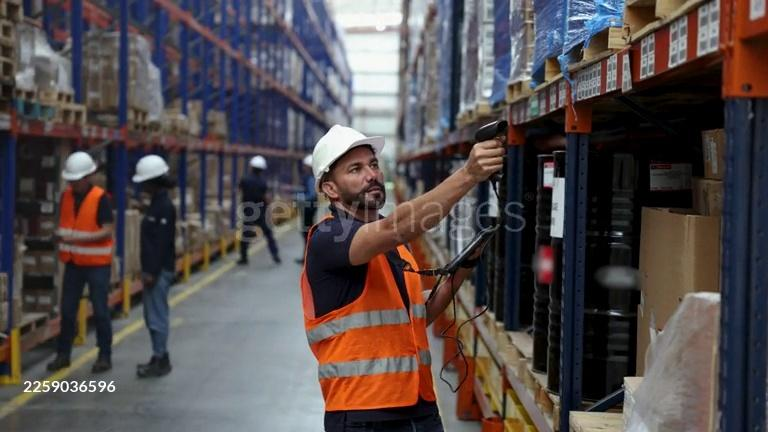helmet: (310, 123, 386, 184), (131, 153, 171, 184), (61, 150, 97, 181), (249, 155, 267, 170)
person: (298, 122, 508, 432), (47, 151, 117, 375), (128, 153, 179, 380), (236, 154, 283, 266)
